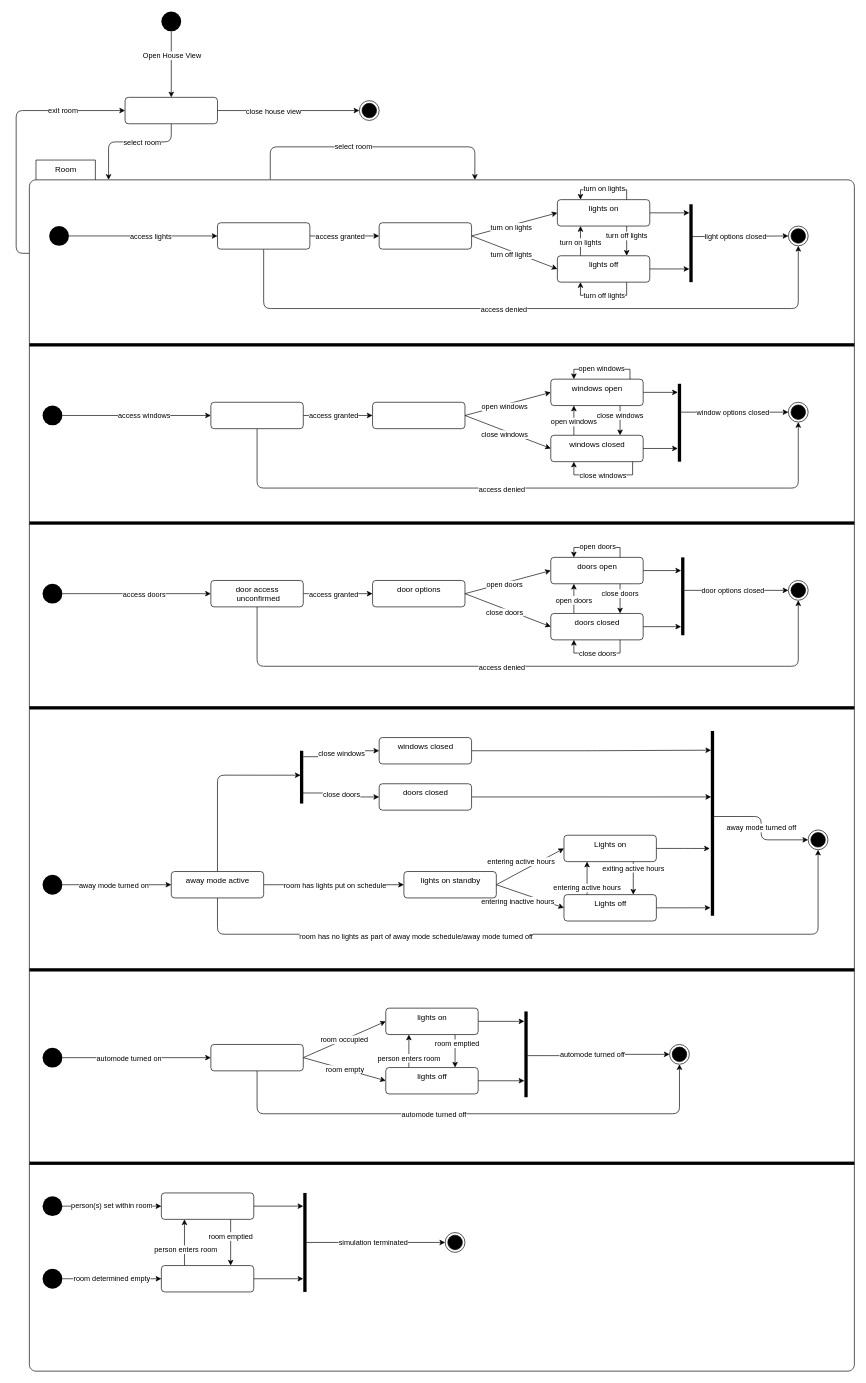
Some shapes in this 866 by 1383 pixel diagram are drawn without their labels. The centre of each missing label's shape, as x and y in pixels:
"automode active" goes at [256,1057].
"empty room" goes at [207,1278].
"House layout" goes at [170,110].
"light access unconfirmed" goes at [263,235].
"light options" goes at [425,235].
"occupied room" goes at [207,1205].
"window access unconfirmed" goes at [256,415].
"window options" goes at [418,415].
